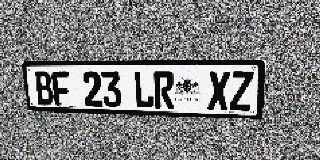2: (82, 71, 103, 107)
3: (101, 71, 122, 107)
B: (34, 71, 54, 105)
F: (51, 71, 72, 106)
L: (133, 71, 154, 108)
R: (153, 71, 174, 109)
X: (208, 71, 230, 110)
Z: (229, 71, 254, 111)
